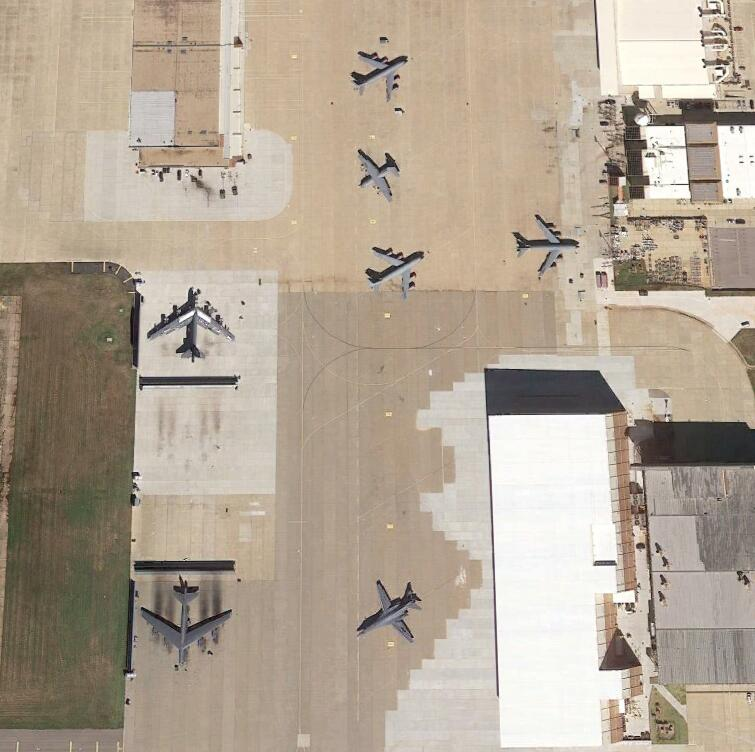A10: (355, 580, 422, 646)
A14: (515, 216, 581, 277), (366, 244, 425, 302), (349, 50, 409, 107)
A2: (354, 151, 401, 203)
A8: (140, 586, 234, 668), (147, 286, 240, 360)
